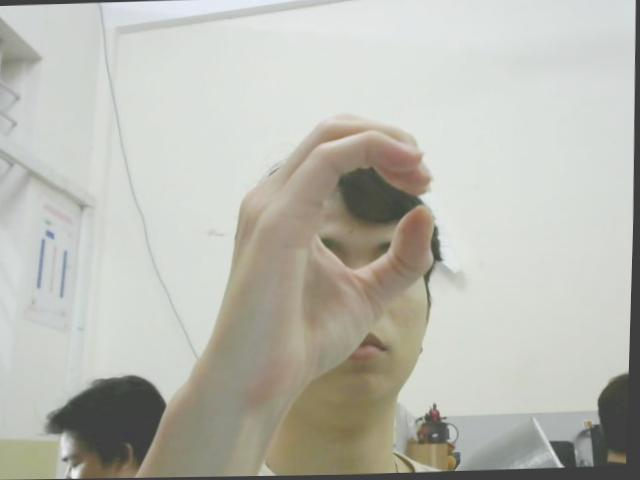C: (216, 108, 443, 393)
